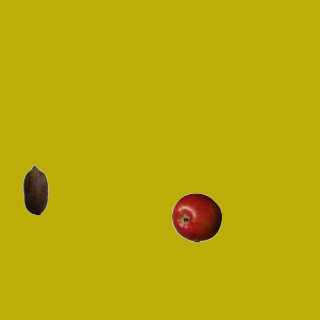Apple Braeburn: (171, 192, 221, 242)
Nut Pecan: (10, 164, 60, 214)
